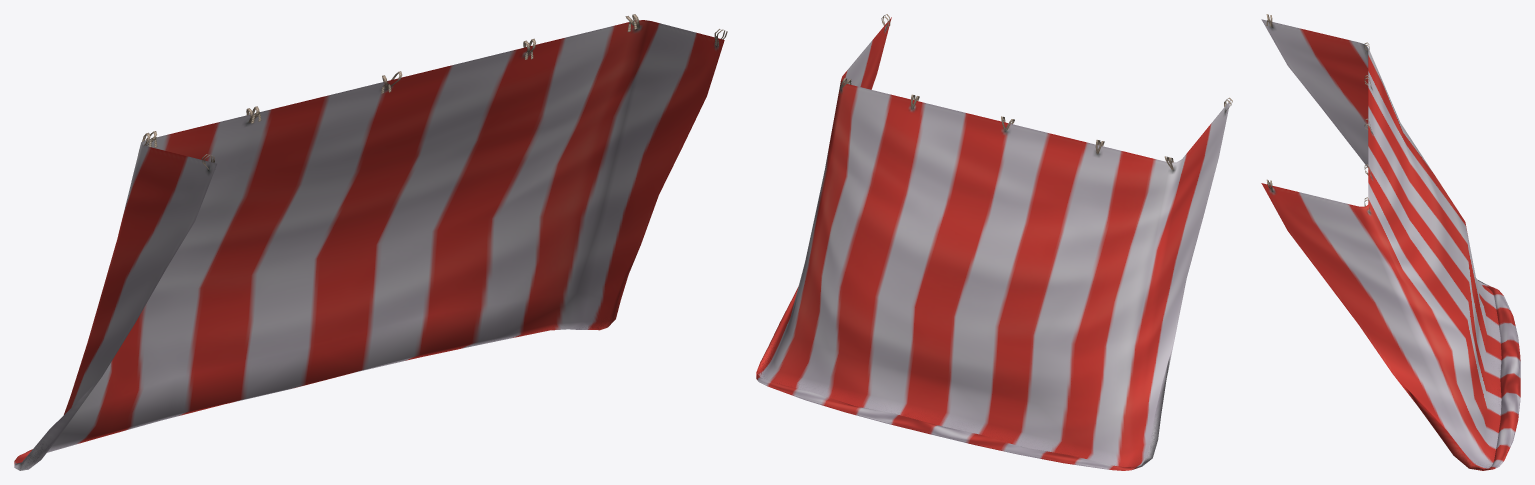
Rendered from jsf_BackSide_s02_c01_t02.fbx.
The picture shows the model from 3 angles, left to right: view 1: azimuth 30°, elevation 25°; view 2: azimuth 150°, elevation 25°; view 3: azimuth 270°, elevation 25°; orthographic projection. The views are drawn at different scales.
Visible parts, largest first — view 1: jsf_BackSide_s02_c01_t02; view 2: jsf_BackSide_s02_c01_t02; view 3: jsf_BackSide_s02_c01_t02.
Boxes of the visible parts, x1,y1,x2,y2 form: jsf_BackSide_s02_c01_t02: (14, 14, 727, 470); jsf_BackSide_s02_c01_t02: (756, 14, 1232, 470); jsf_BackSide_s02_c01_t02: (1261, 14, 1520, 470).
Bounding box in the file's own units: 296 × 205 × 171.
